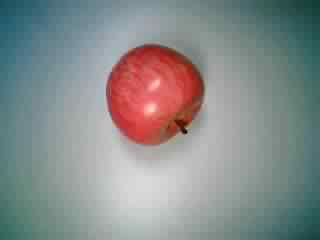apple: (103, 41, 207, 145)
